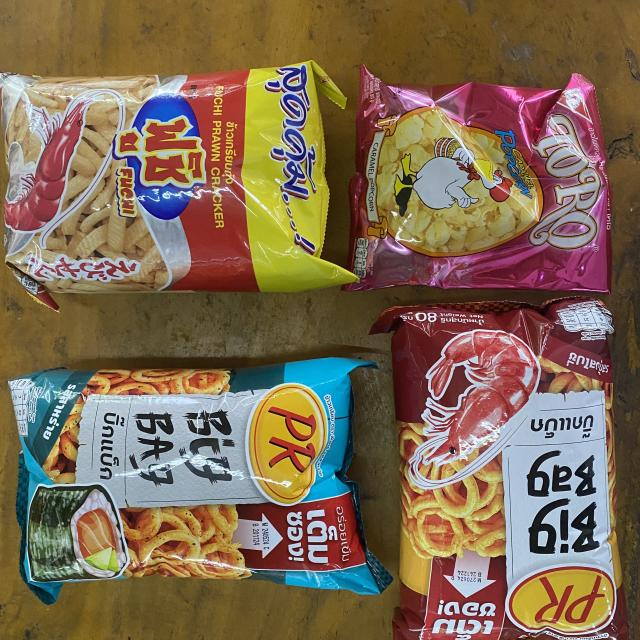plastik: (10, 358, 391, 604), (0, 61, 355, 309), (372, 297, 628, 640), (343, 66, 611, 292)
